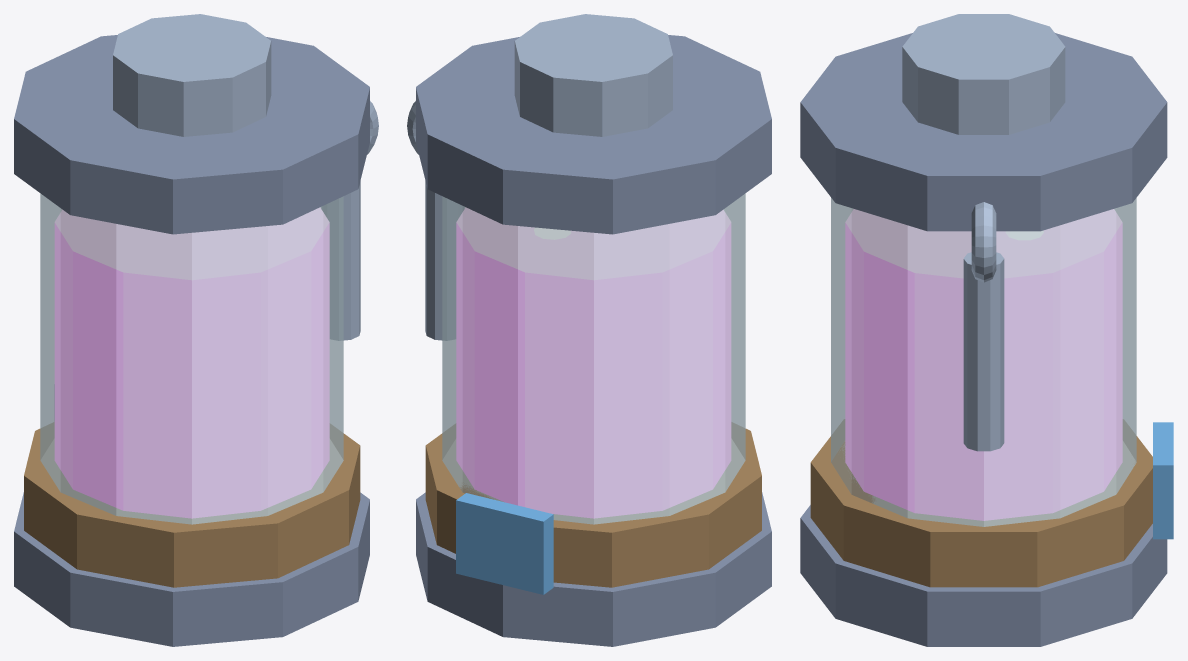
Rendered from elixir_collector.glb.
3 views of the same model, side by side, from view 1: azimuth 30°, elevation 25°; view 2: azimuth 150°, elevation 25°; view 3: azimuth 270°, elevation 25° (orthographic).
Parts seen in each view (by area): view 1: elixir_collector; view 2: elixir_collector; view 3: elixir_collector.
Boxes of the visible parts, x1=… form: elixir_collector: x1=14, y1=14, x2=378, y2=646; elixir_collector: x1=407, y1=14, x2=771, y2=646; elixir_collector: x1=800, y1=14, x2=1173, y2=646.
Bounding box in the file's own units: 1.92 × 2.85 × 1.83.
